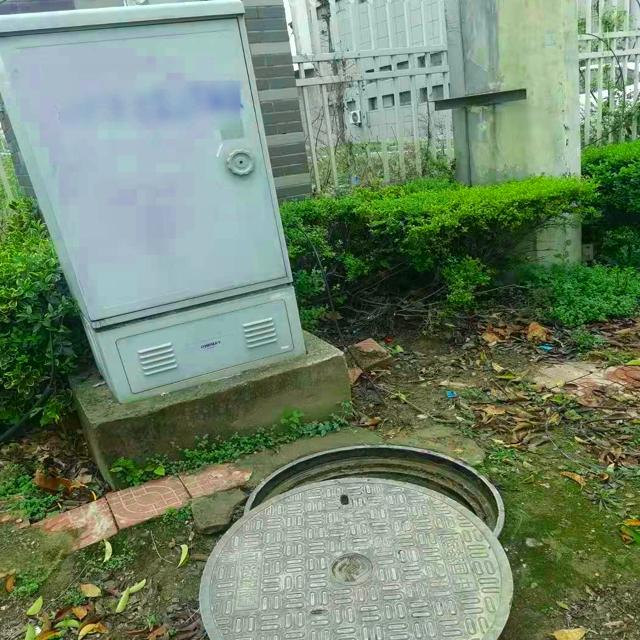uncovered: (200, 446, 513, 640)
